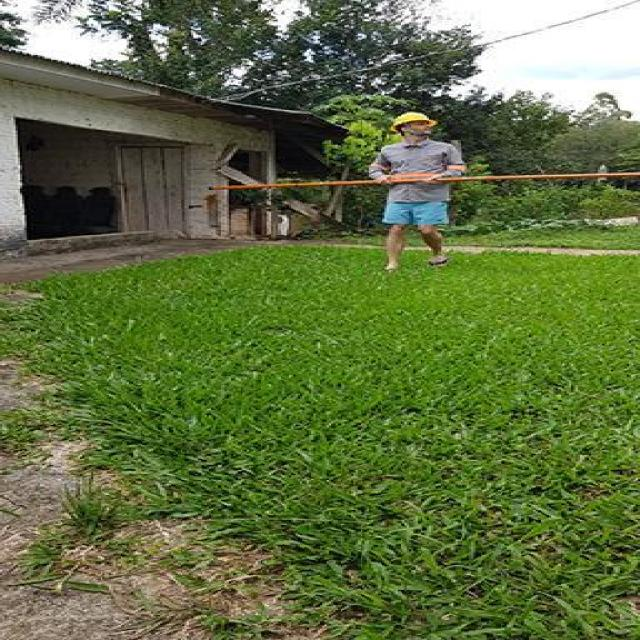hat: (389, 111, 436, 140)
